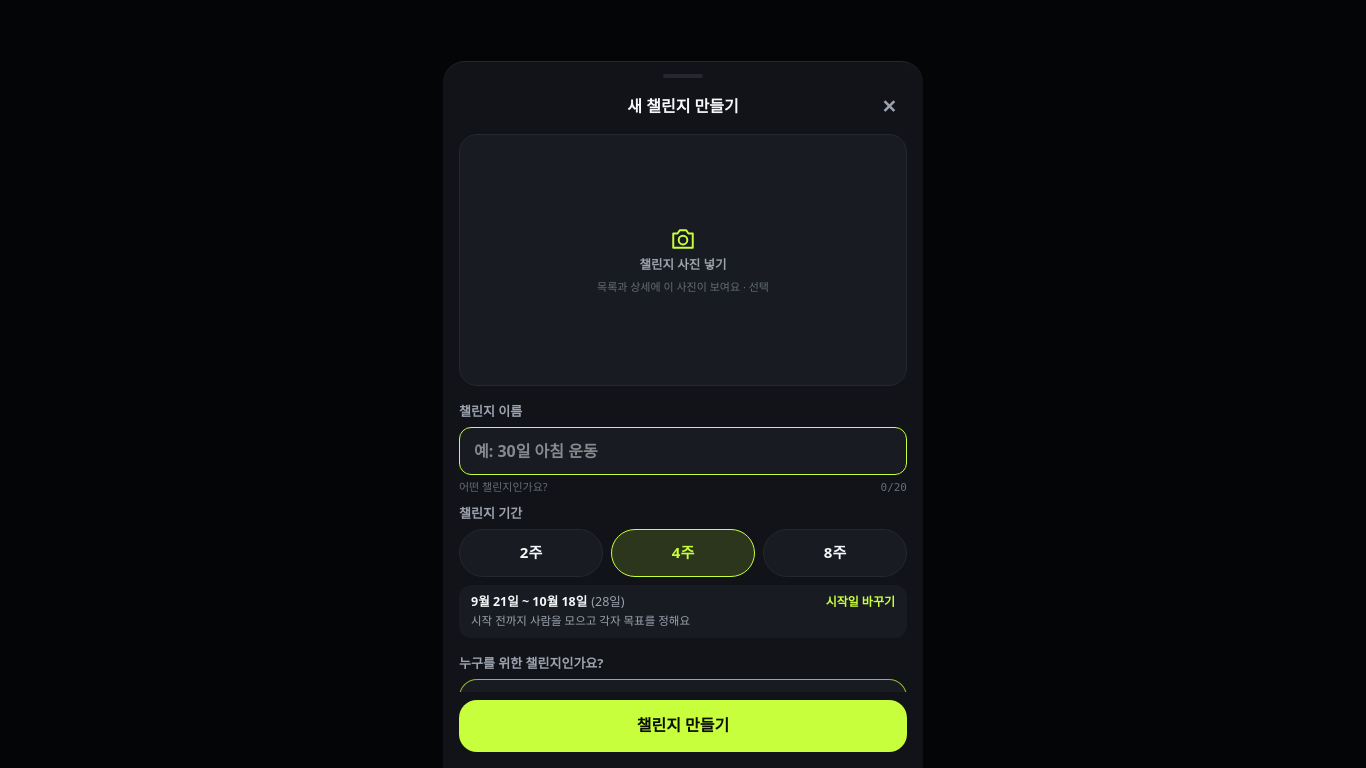
누구와 — 기존 기능에 옮겨 담는다 › 공개 모집이 이미 하나 열려 있으면 방은 두고 이유를 말한다 — 되돌리지 않는다
Type "30일 아침 운동" into the field labelled "챌린지 이름".
click(683, 451); type("30일 아침 운동")  # box [459,427,907,475]
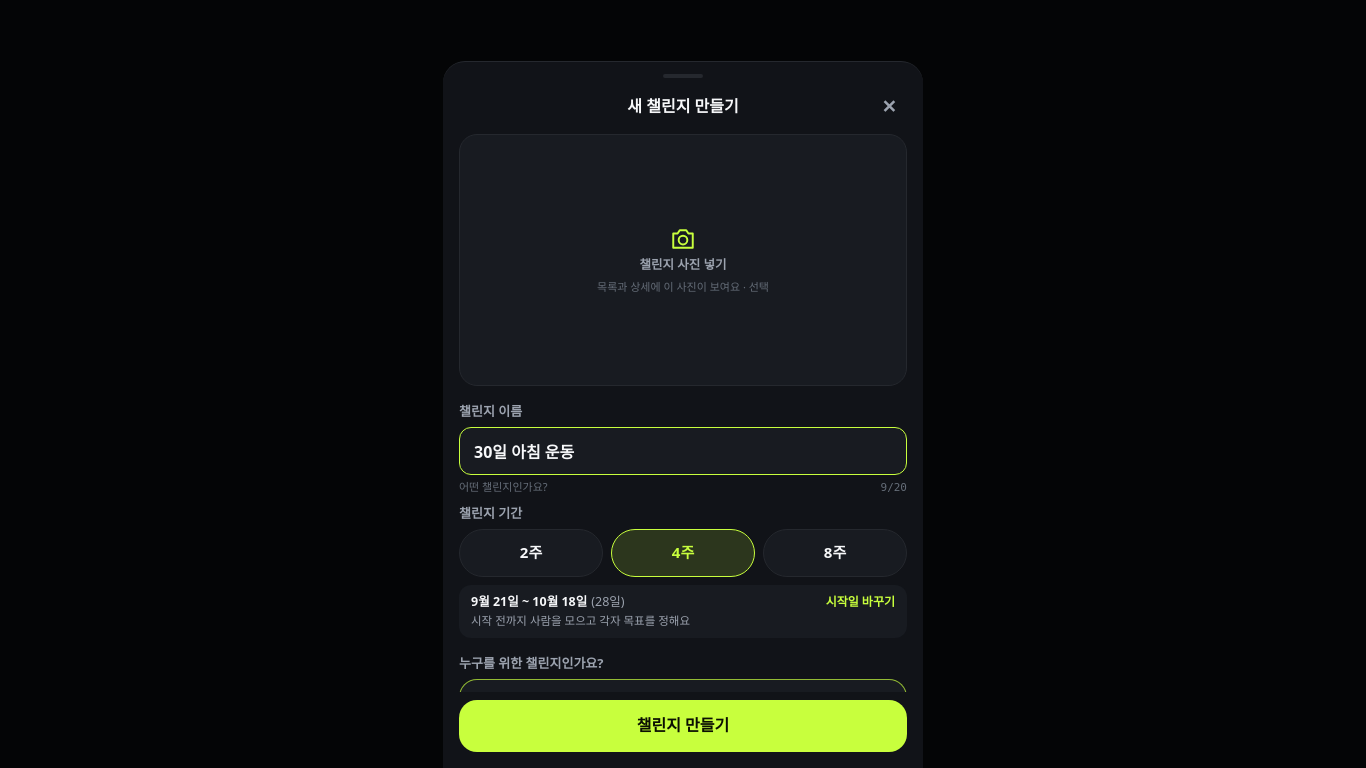
Click the button "챌린지 만들기".
click(683, 726)  # box [459,700,907,752]
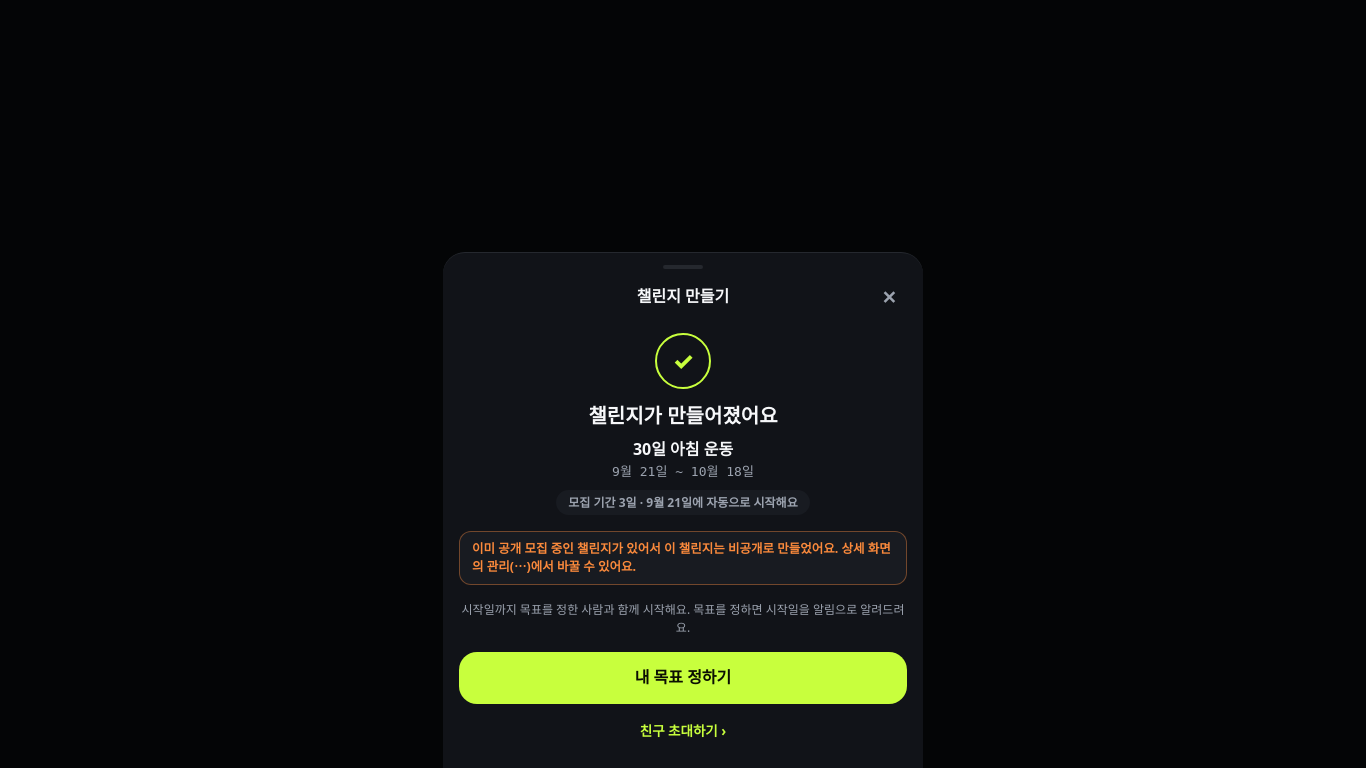
Expected: the text "챌린지가 만들어졌어요" is shown, [588,400,778,430]
Expected: the message shows "이미 공개 모집 중인 챌린지가 있어서", [472,540,891,575]
